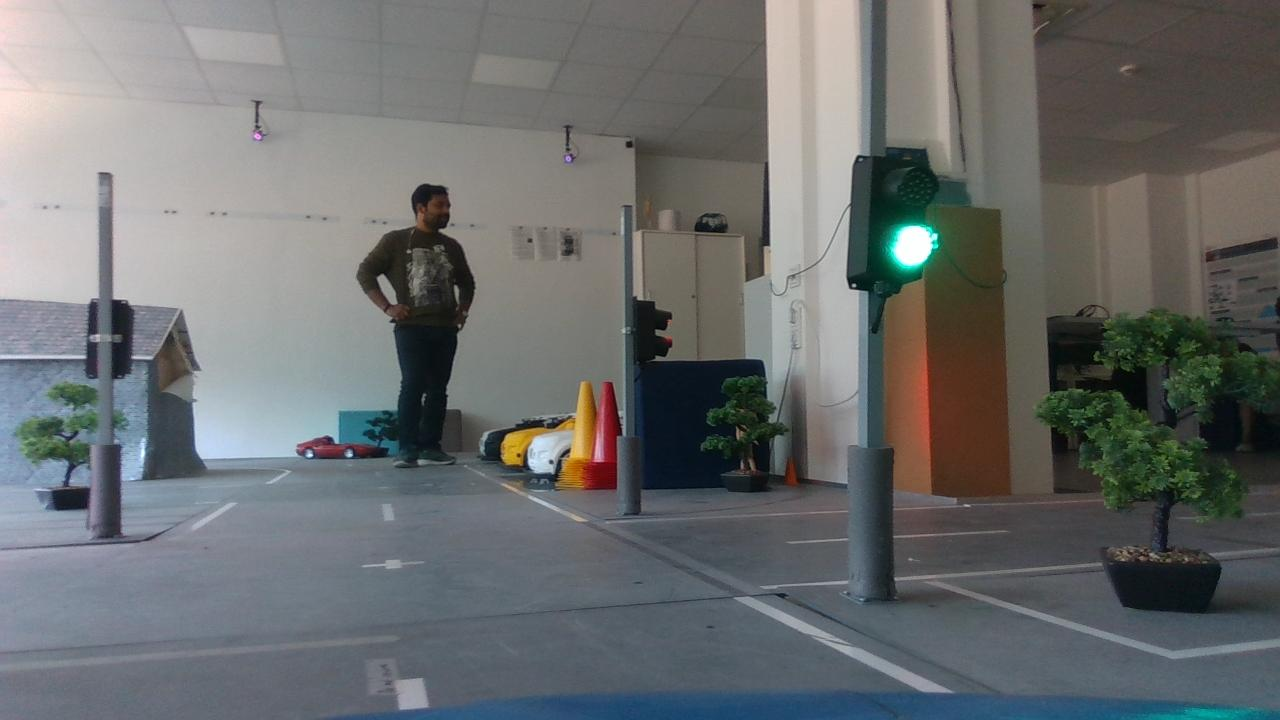traffic_light_green: (826, 137, 950, 313)
